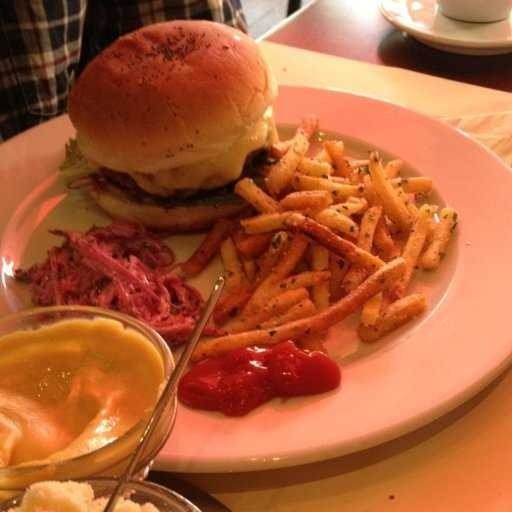hamburger: (70, 12, 264, 214)
